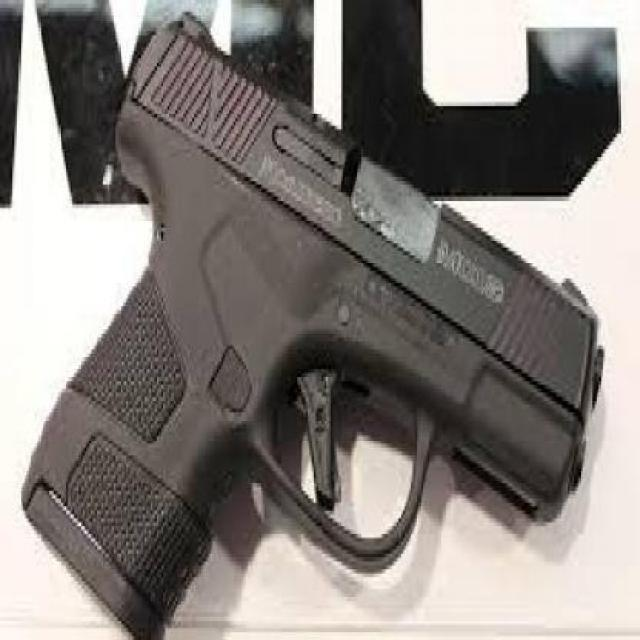Pistol: (21, 8, 608, 636)
